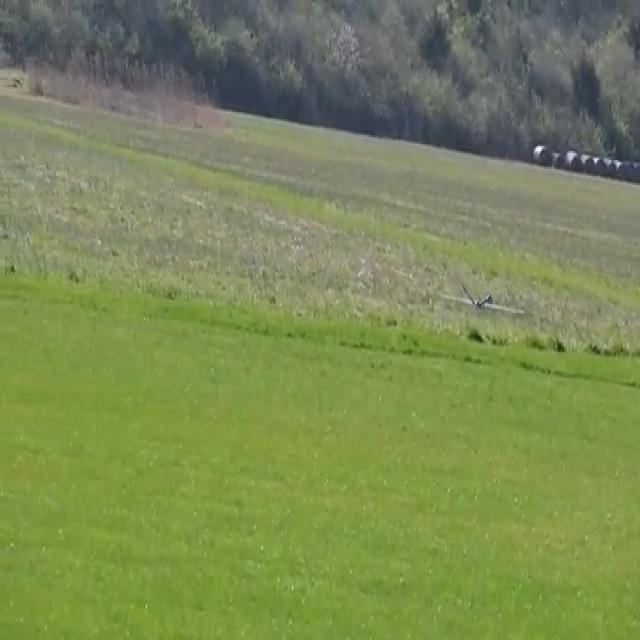iha: (443, 284, 517, 313)
